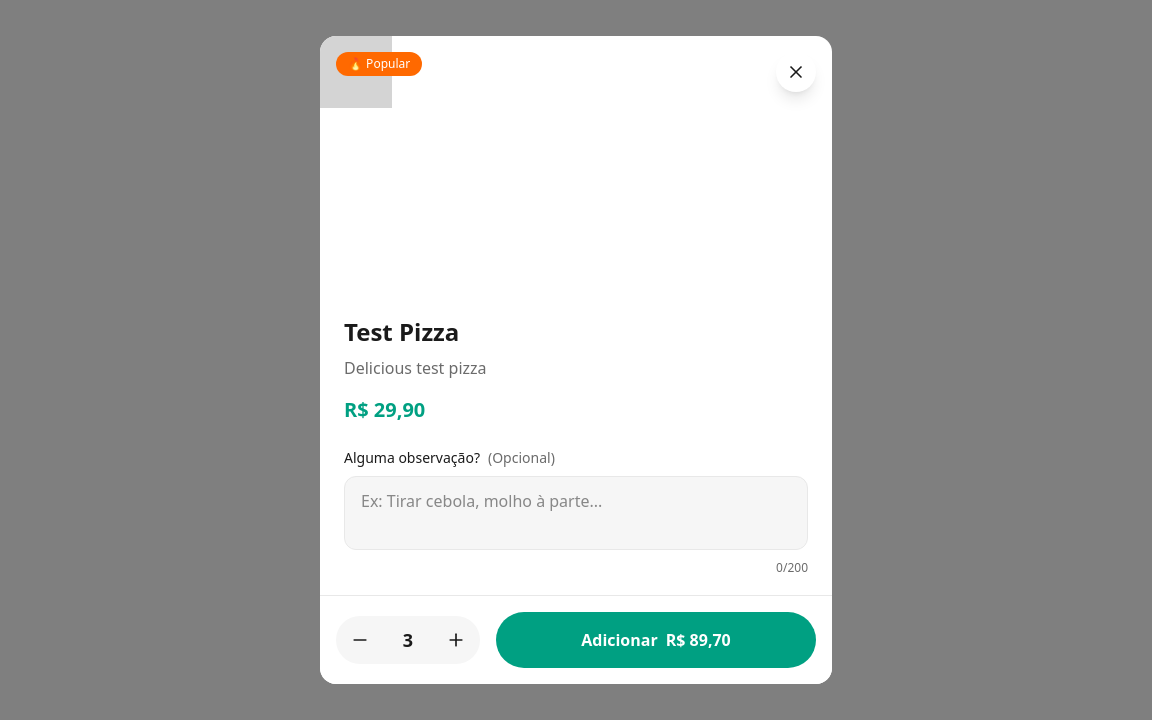
Test: MenuItemModal › should decrement quantity
The image size is (1152, 720).
Click the button named "diminuir" at (360, 640), box [340,620,380,660]
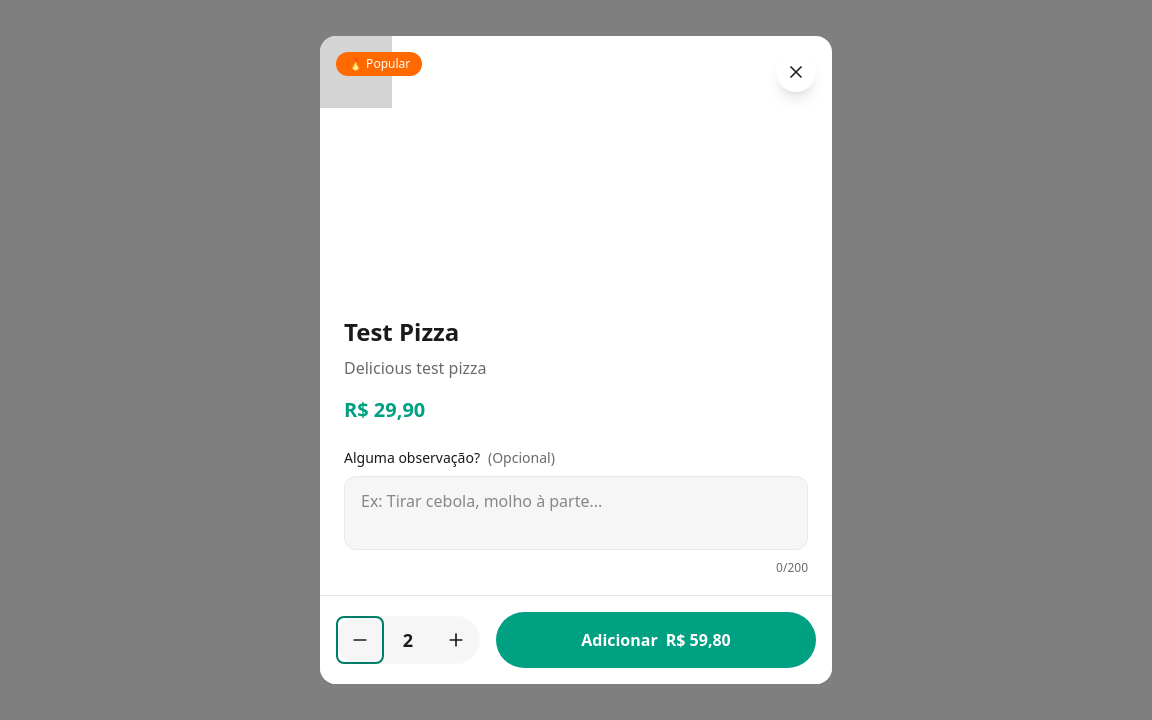
expect the text "2" is shown: met, box [403,628,413,652]
